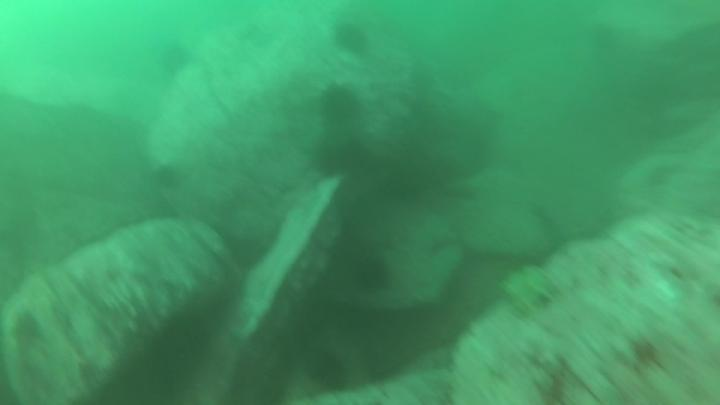echinus: (304, 134, 371, 180), (317, 82, 362, 134), (306, 349, 351, 393), (330, 19, 373, 63), (352, 254, 395, 296), (159, 42, 194, 80), (147, 163, 184, 192)
holothurian: (499, 262, 559, 315)
starfish: (5, 313, 46, 364)
